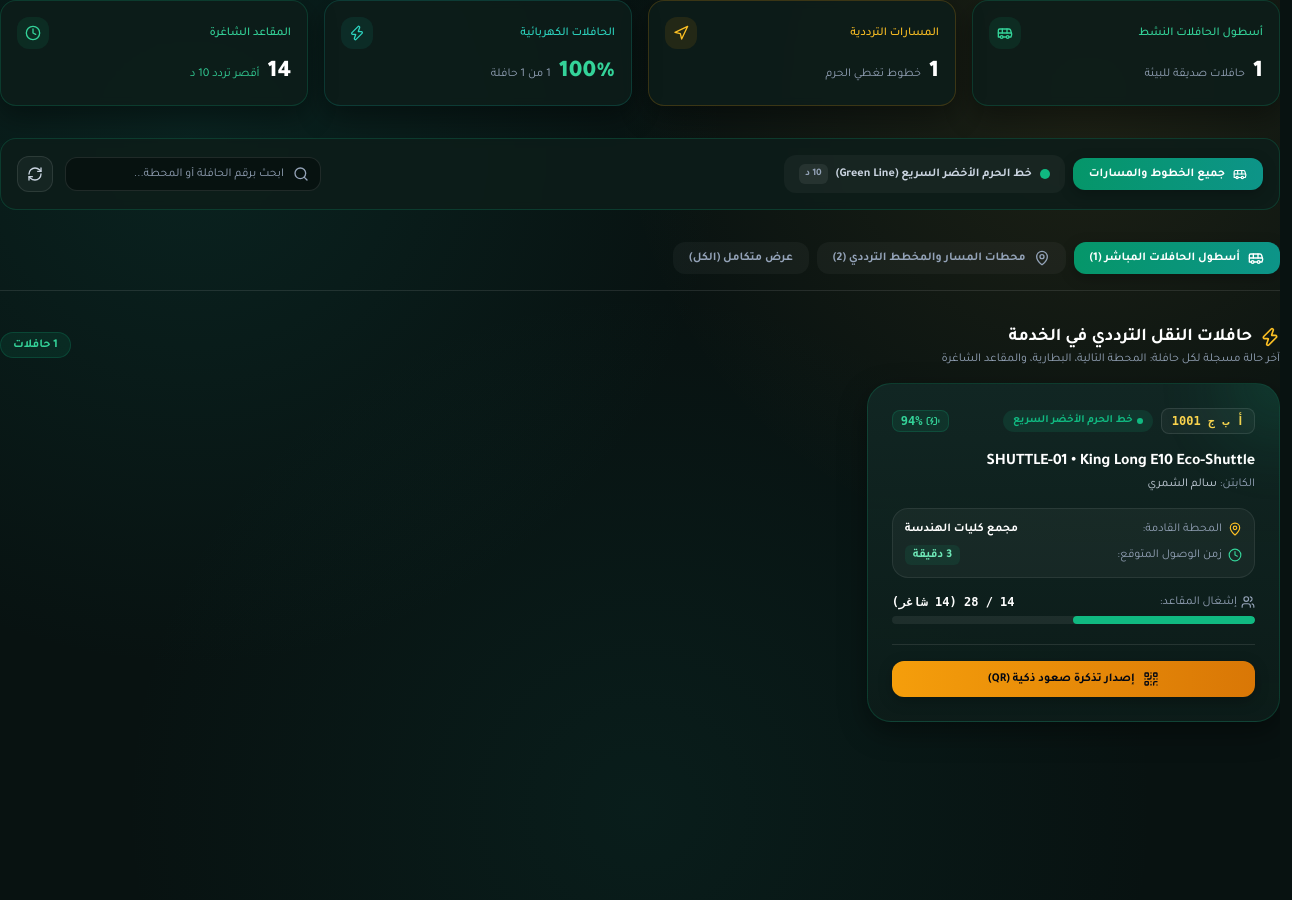
Test case: TransitView Component › filters by route and searches by query
Expected: the heading "SHUTTLE-01 • King Long E10 Eco-Shuttle" is shown, [986,454,1255,470]
Type "غير موجود" into the field with placeholder "ابحث برقم الحافلة أو المحطة..." at (193, 174), box [65,157,321,191]
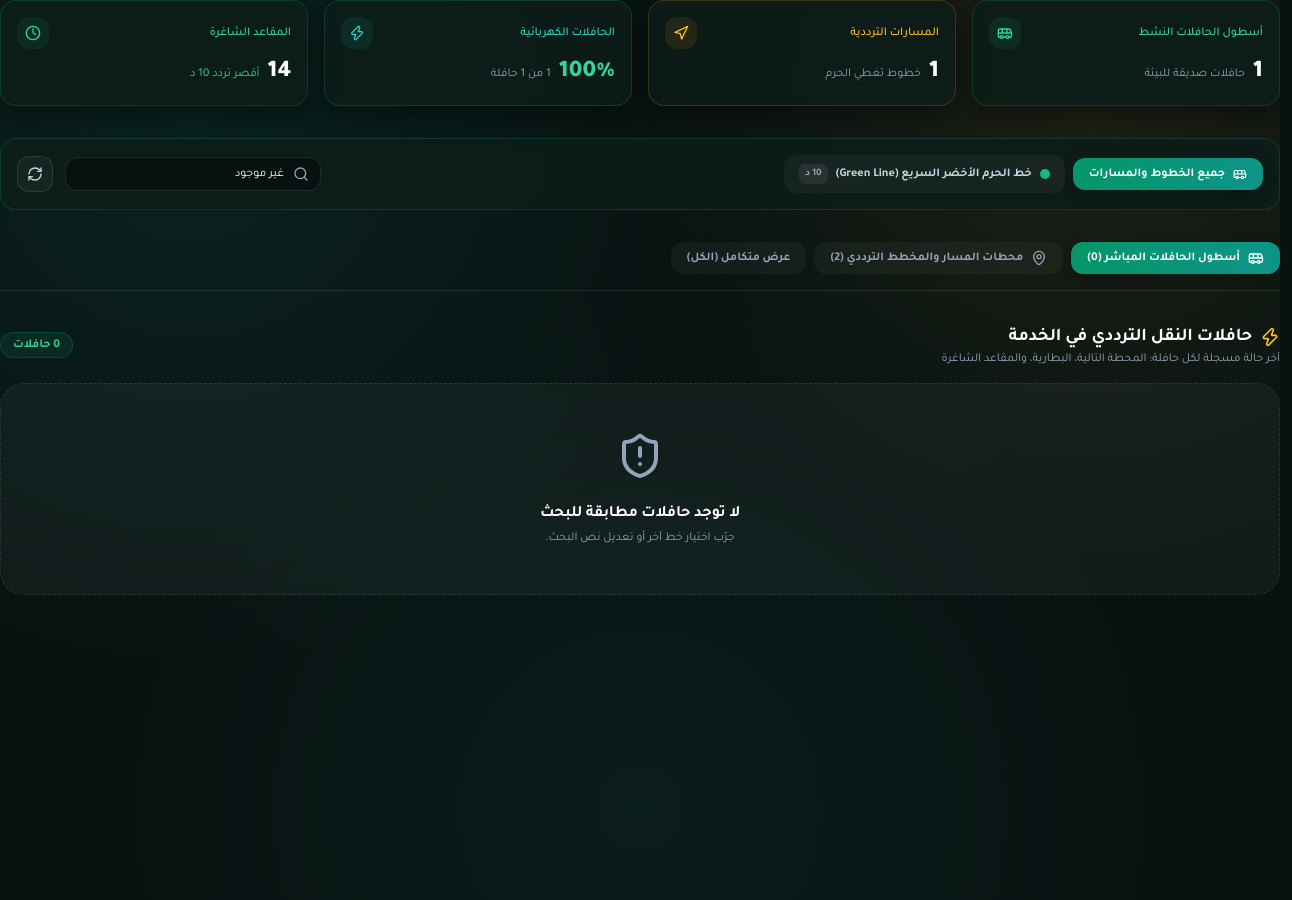
Expected: the heading "لا توجد حافلات مطابقة للبحث" is shown, [540,506,740,522]
